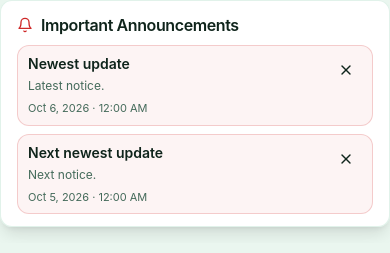
it: important announcement dashboard feed › shows only the two newest role-targeted notices and fills the next newest after dismissal
Expected: the heading "Newest update" is shown, [28,54,148,74]
Expected: the heading "Next newest update" is shown, [28,142,163,162]
Click the button named "Dismiss announcement: Newest update".
click(346, 70)  # box [330,54,362,86]
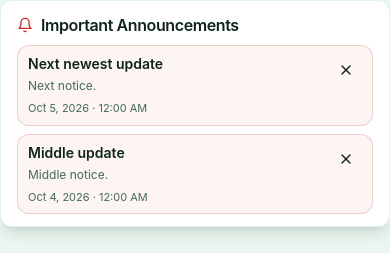
Expected: the heading "Middle update" is shown, [28,144,125,160]
